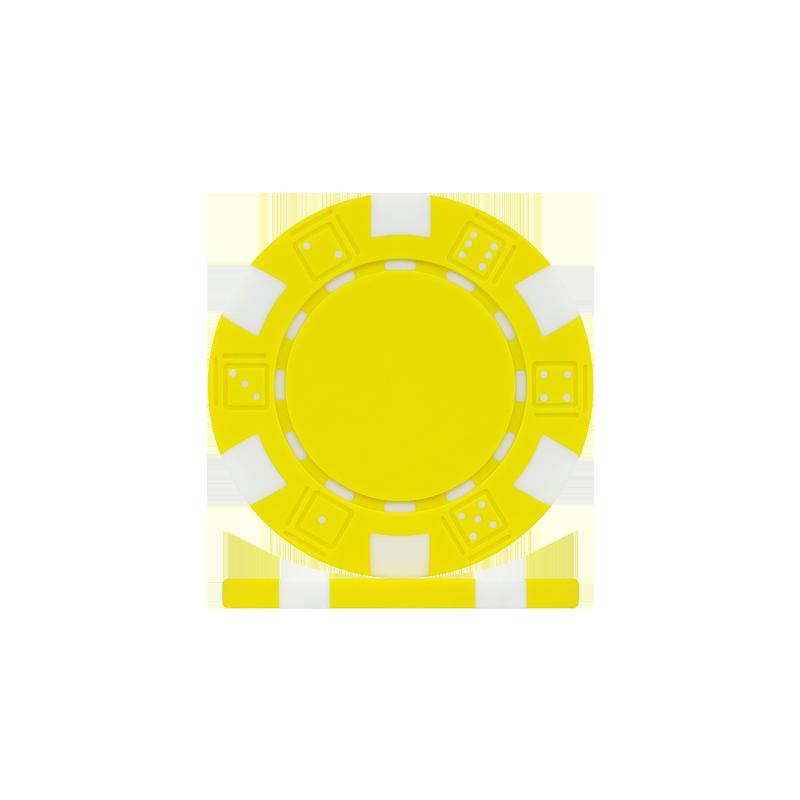chip-yellow: (209, 194, 592, 578)
